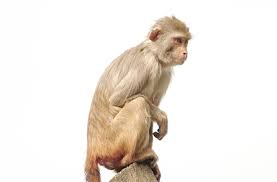monkey: (96, 18, 234, 182)
